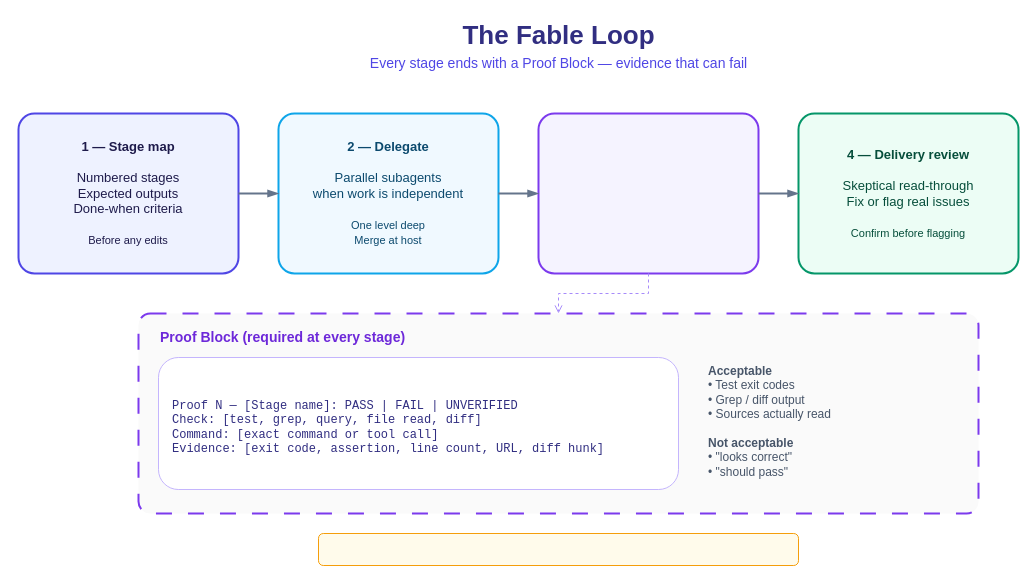
Some shapes in this 1036 by 583 pixel diagram are drawn without their labels. The centre of each missing label's shape, as x and y in pixels:
3 — Proof check Tests, grep, diff Sources actually read No "looks correct": point (648, 193)
If stage N invalidates stage M → re-run M's proof: point (558, 549)
